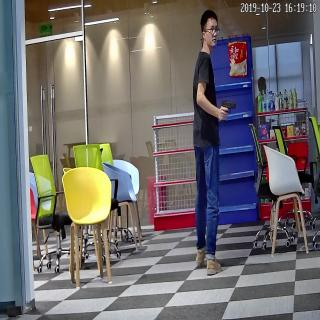gun: (217, 97, 237, 124)
